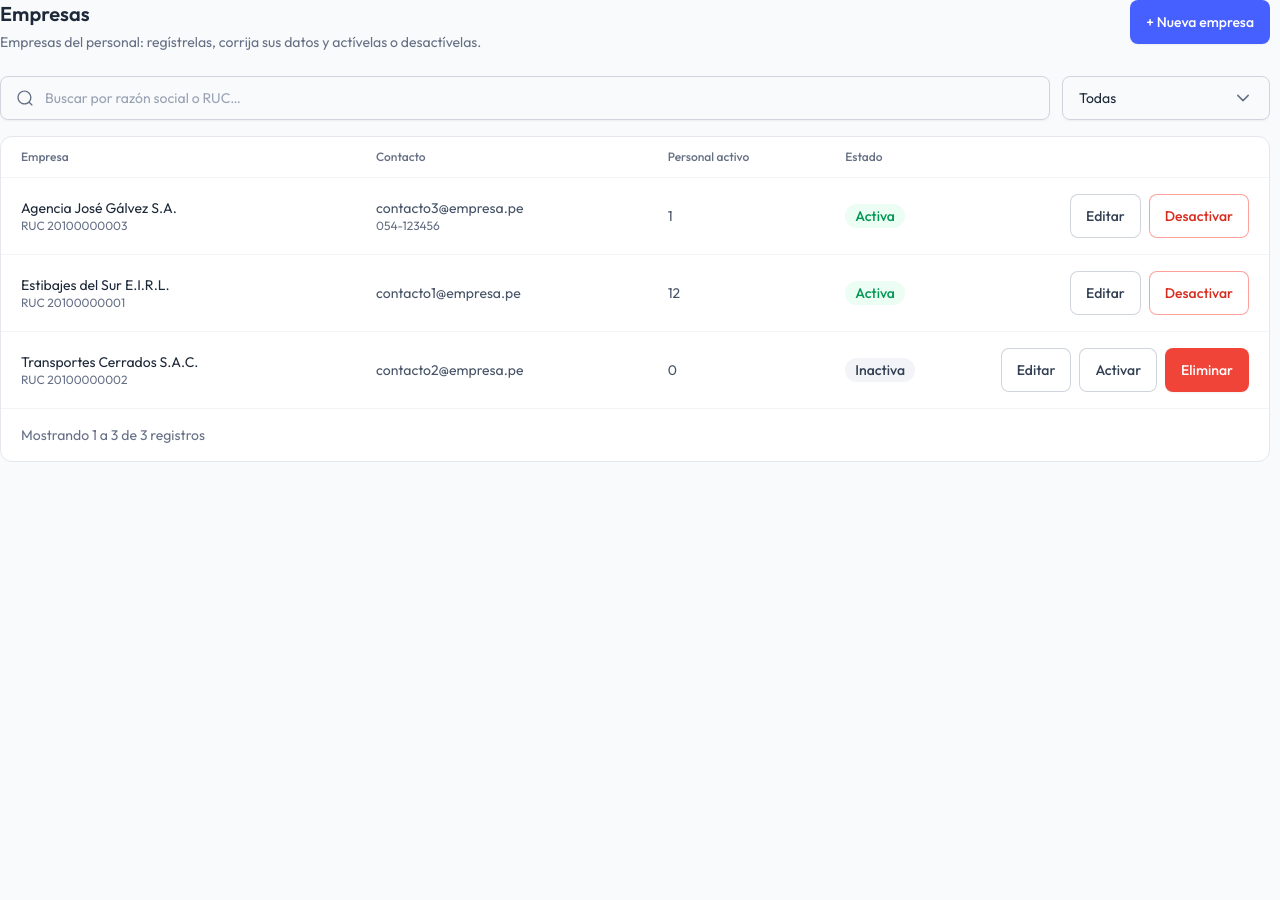
vista Empresas › al desactivar una empresa con personal activo, avisa que seguirán pudiendo ingresar
What coordinates should you click on to do the following:
click the button "Desactivar" in the row of "Estibajes del Sur E.I.R.L."
I would click on:
 (1199, 293)
Its box is [1149,271,1249,315].
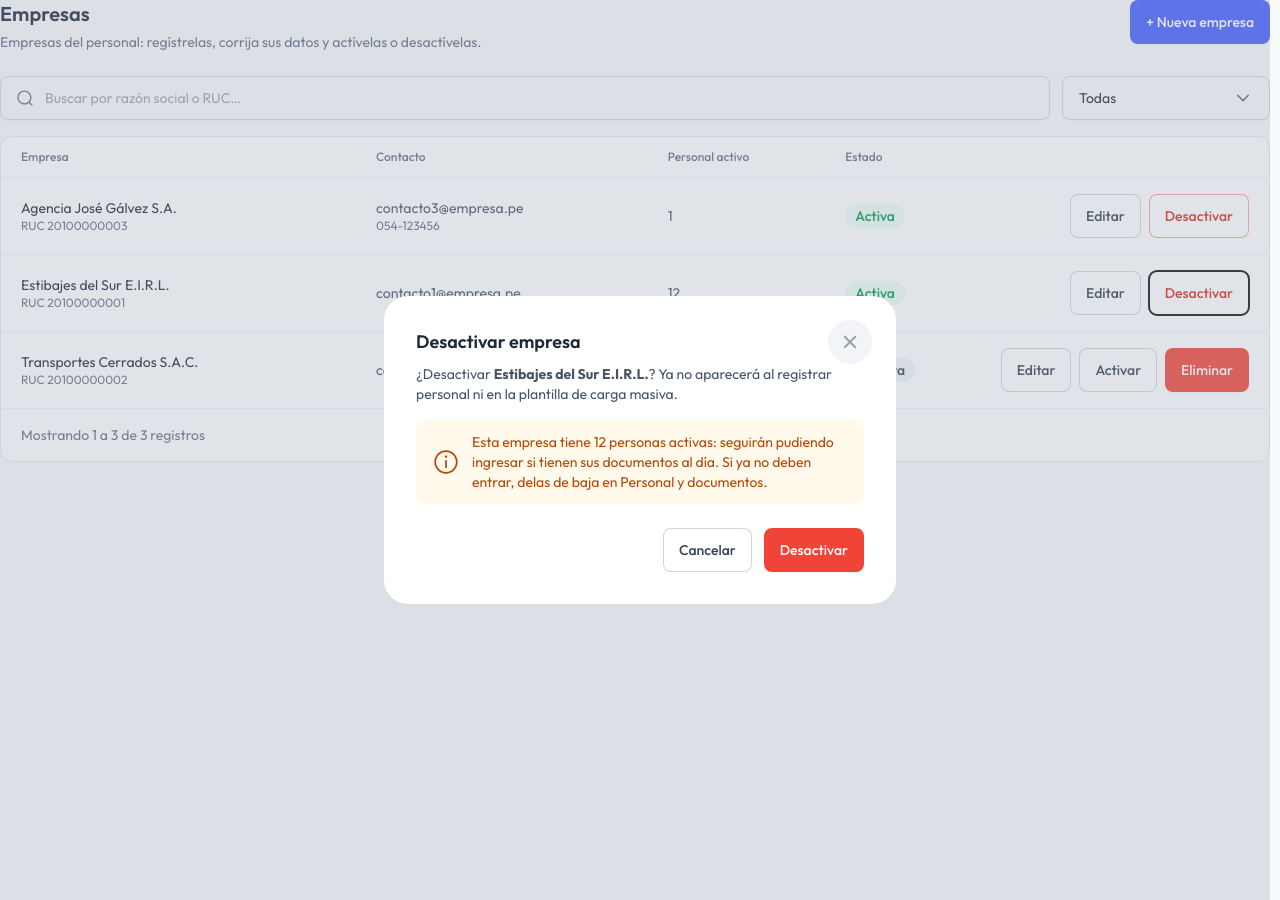
Check: the text "tiene 12 personas activas" shows "seguirán pudiendo ingresar", box [472,432,848,492]
Note: El botón de la confirmación (el último "Desactivar": la ventana va después de la tabla).
What coordinates should you click on to do the following:
click the button "Desactivar"
I would click on:
 (814, 550)
Its box is [764,528,864,572].
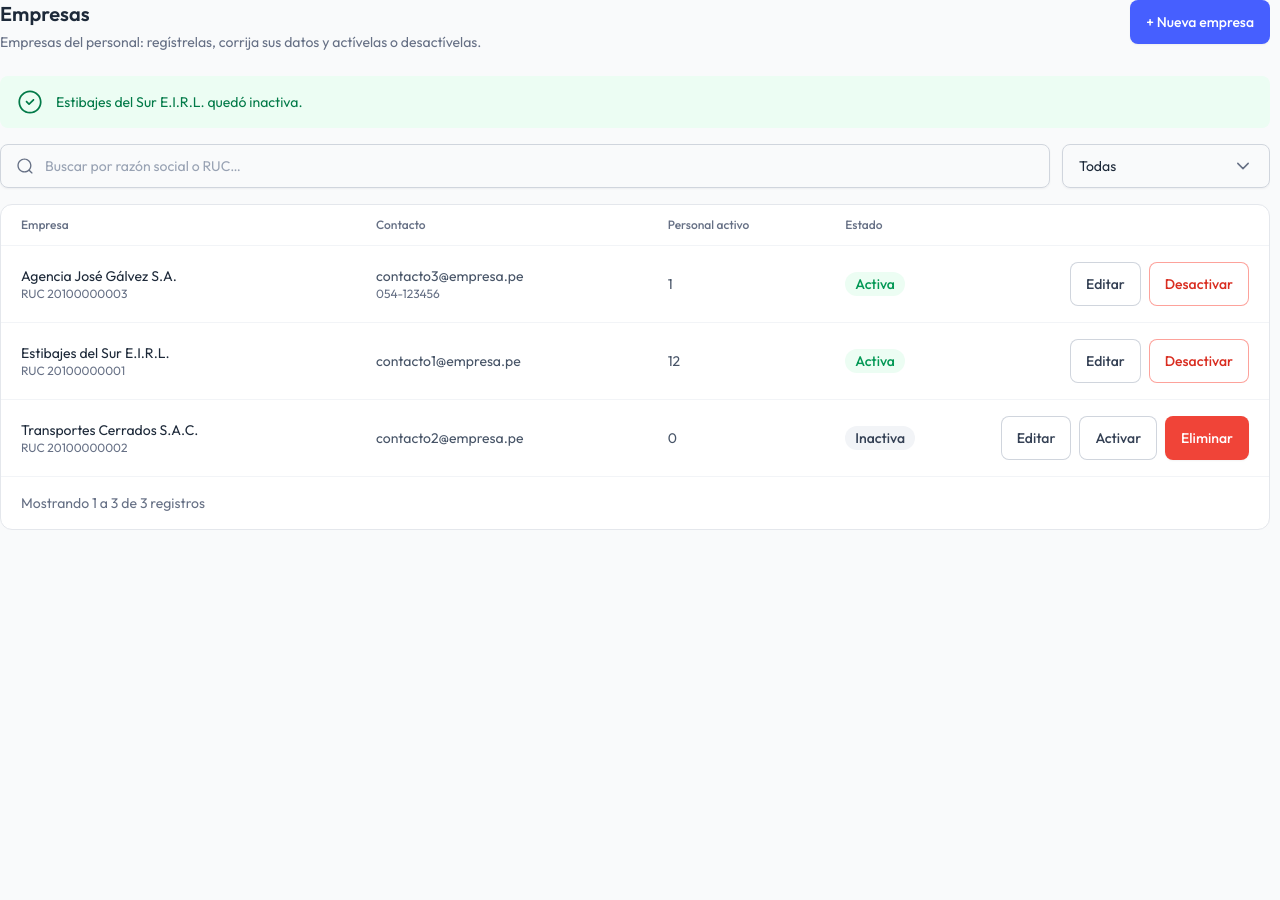
Check: the text "Estibajes del Sur E.I.R.L. quedó inactiva." is shown, box [56,92,302,112]
